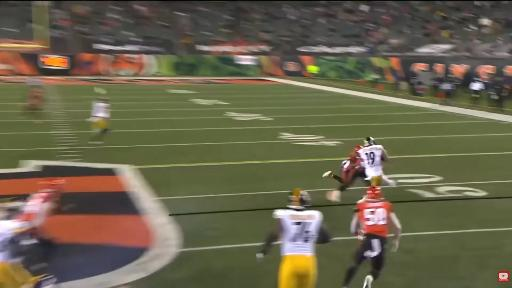Helmet: (287, 188, 310, 209), (366, 186, 382, 201), (364, 137, 375, 146), (354, 146, 362, 151)
Jersey: (274, 210, 322, 255), (355, 201, 392, 237), (19, 192, 54, 227), (0, 220, 29, 262), (359, 145, 384, 176), (343, 152, 361, 171), (92, 101, 110, 118), (342, 160, 350, 171)
Player: (257, 189, 330, 287), (343, 186, 401, 287), (16, 180, 64, 262), (0, 220, 55, 287), (17, 180, 64, 236), (323, 146, 366, 201), (358, 137, 396, 186), (88, 98, 110, 143), (23, 78, 44, 122)
